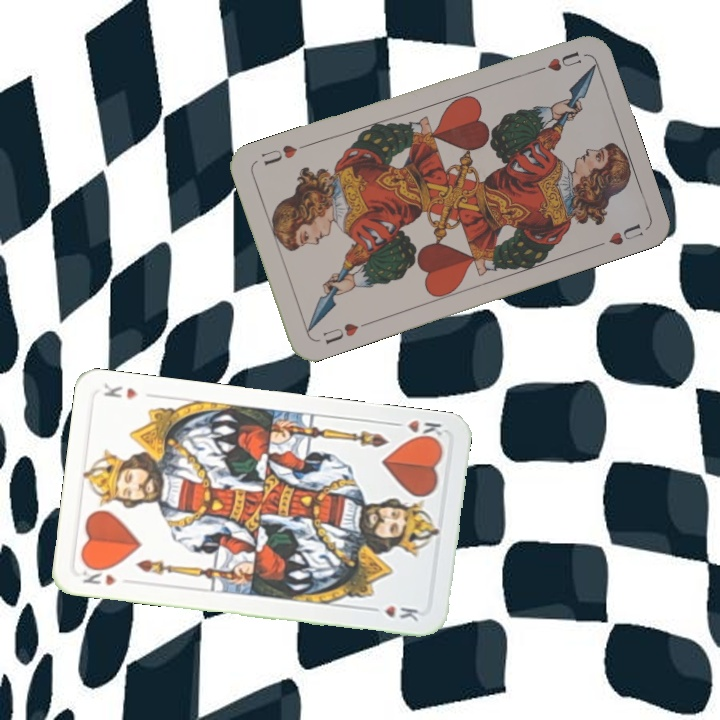HK: (387, 416, 445, 445), (78, 561, 119, 588)
HU: (528, 47, 585, 76), (319, 319, 361, 347)
